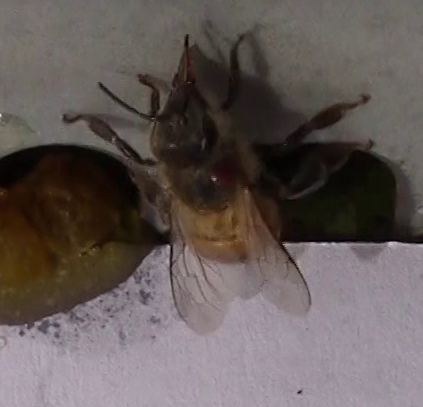Varroa destructor: (205, 155, 247, 192)
